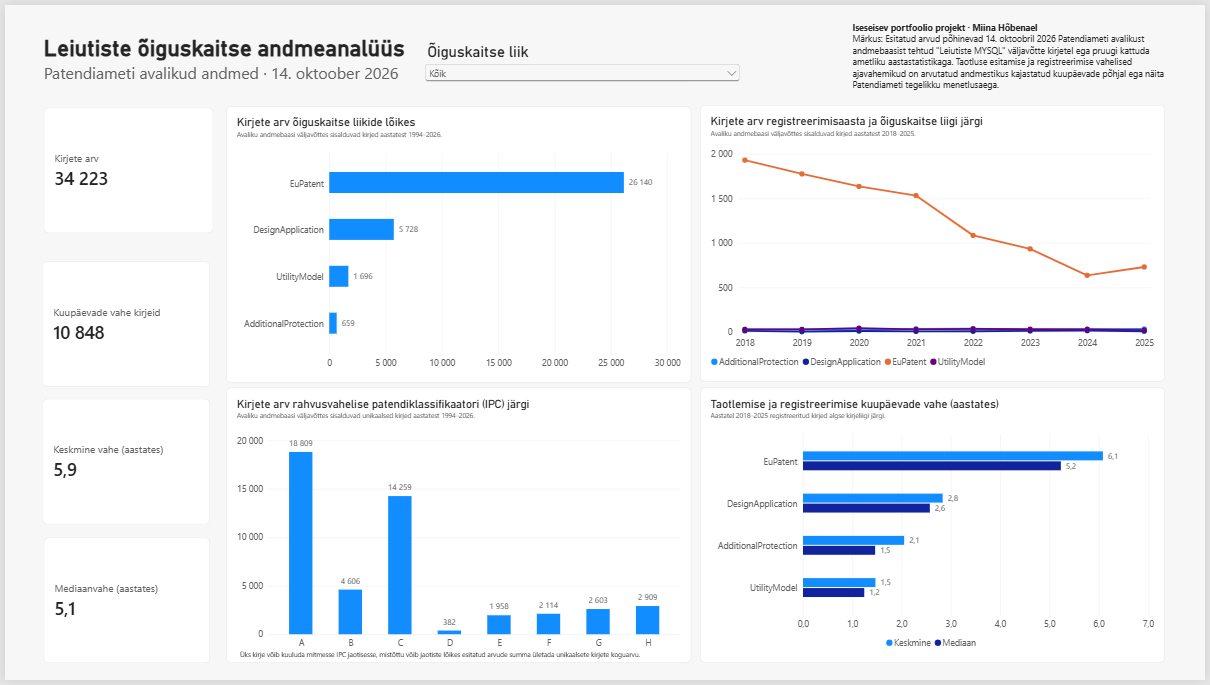

Layout of this report page (visuals, bound fields, positions):
{"tool":"powerbi","page":{"name":"Lk 1","canvas":[1920,1080],"ordinal":0},"visuals":[{"type":"textbox","title":"Leiutiste õiguskaitse andmeanalüüs","box":[62,48,1678,220],"z":0},{"type":"cardVisual","fields":{"Data":["patent_records.Total Records"]},"box":[62.5,163.8,271.2,201.2],"z":1000},{"type":"cardVisual","fields":{"Data":["patent_records.Eligible Interval Records"]},"box":[60,410,268.8,201.2],"z":2000},{"type":"cardVisual","fields":{"Data":["patent_records.Mean Interval (Years)"]},"box":[60,630,268.8,201.2],"z":3000},{"type":"cardVisual","fields":{"Data":["patent_records.Median Interval (Years)"]},"box":[62.5,851.2,266.2,201.2],"z":4000},{"type":"slicer","fields":{"Values":["patent_records.type"]},"box":[667.5,60,512.5,102.5],"z":5000},{"type":"clusteredBarChart","title":"Taotlemise ja registreerimise kuupäevade vahe (aastates)","fields":{"Category":["patent_records.type"],"Y":["patent_records.Mean Interval (Years)","patent_records.Median Interval (Years)"]},"box":[1112.5,612.5,744,440],"z":6000},{"type":"clusteredBarChart","title":"Kirjete arv õiguskaitse liikide lõikes","fields":{"Category":["patent_records.type"],"Y":["patent_records.Total Records"]},"box":[354,162,744,442],"z":7000},{"type":"lineChart","title":"Kirjete arv registreerimisaasta ja õiguskaitse liigi järgi","fields":{"Category":["patent_records.registration_year"],"Series":["patent_records.type"],"Y":["patent_records.Total Records"]},"box":[1112,160,744,442],"z":8000},{"type":"columnChart","title":"Kirjete arv rahvusvahelise patendiklassifikaatori (IPC) järgi","fields":{"Category":["ipc_codes.IPC Section"],"Y":["ipc_codes.Records by IPC Section"]},"box":[353.6,612.5,744,440],"z":9000},{"type":"textbox","box":[375,1028.6,650,23.2],"z":10000},{"type":"textbox","box":[1356,26,500,116],"z":11000}]}

Visuals, with their boxes in screenshot pixels (x1, y1, x2, y2), scaled from the page's 1920x1080 canvas onto the 1210x685 screenshot:
"Leiutiste õiguskaitse andmeanalüüs" textbox: bbox(39, 30, 1097, 170)
cardVisual - patent_records.Total Records: bbox(39, 104, 210, 232)
cardVisual - patent_records.Eligible Interval Records: bbox(38, 260, 207, 388)
cardVisual - patent_records.Mean Interval (Years): bbox(38, 400, 207, 527)
cardVisual - patent_records.Median Interval (Years): bbox(39, 540, 207, 667)
slicer - patent_records.type: bbox(421, 38, 744, 103)
"Taotlemise ja registreerimise kuupäevade vahe (aastates)" clusteredBarChart: bbox(701, 388, 1170, 668)
"Kirjete arv õiguskaitse liikide lõikes" clusteredBarChart: bbox(223, 103, 692, 383)
"Kirjete arv registreerimisaasta ja õiguskaitse liigi järgi" lineChart: bbox(701, 101, 1170, 382)
"Kirjete arv rahvusvahelise patendiklassifikaatori (IPC) järgi" columnChart: bbox(223, 388, 692, 668)
textbox: bbox(236, 652, 646, 667)
textbox: bbox(855, 16, 1170, 90)
